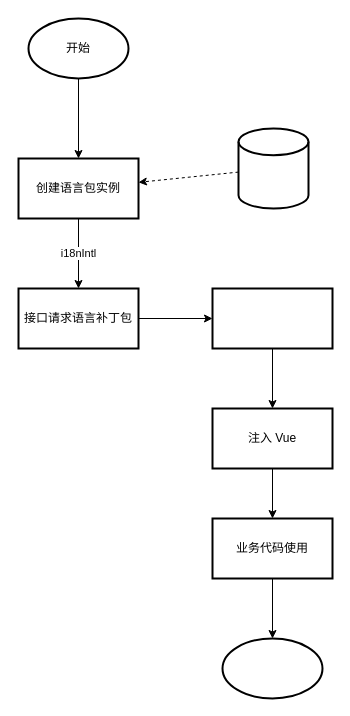
Some shapes in this 350 by 716 pixel diagram are drawn without their labels. The shapes that lost their labels are listed below. From the top down, each one's box as (x1, y1, x2, y2) in pixels, then its label:
(237, 127, 309, 209): locale timeZone messages
(211, 287, 333, 349): 覆盖已有词条
(221, 637, 323, 699): 结束
